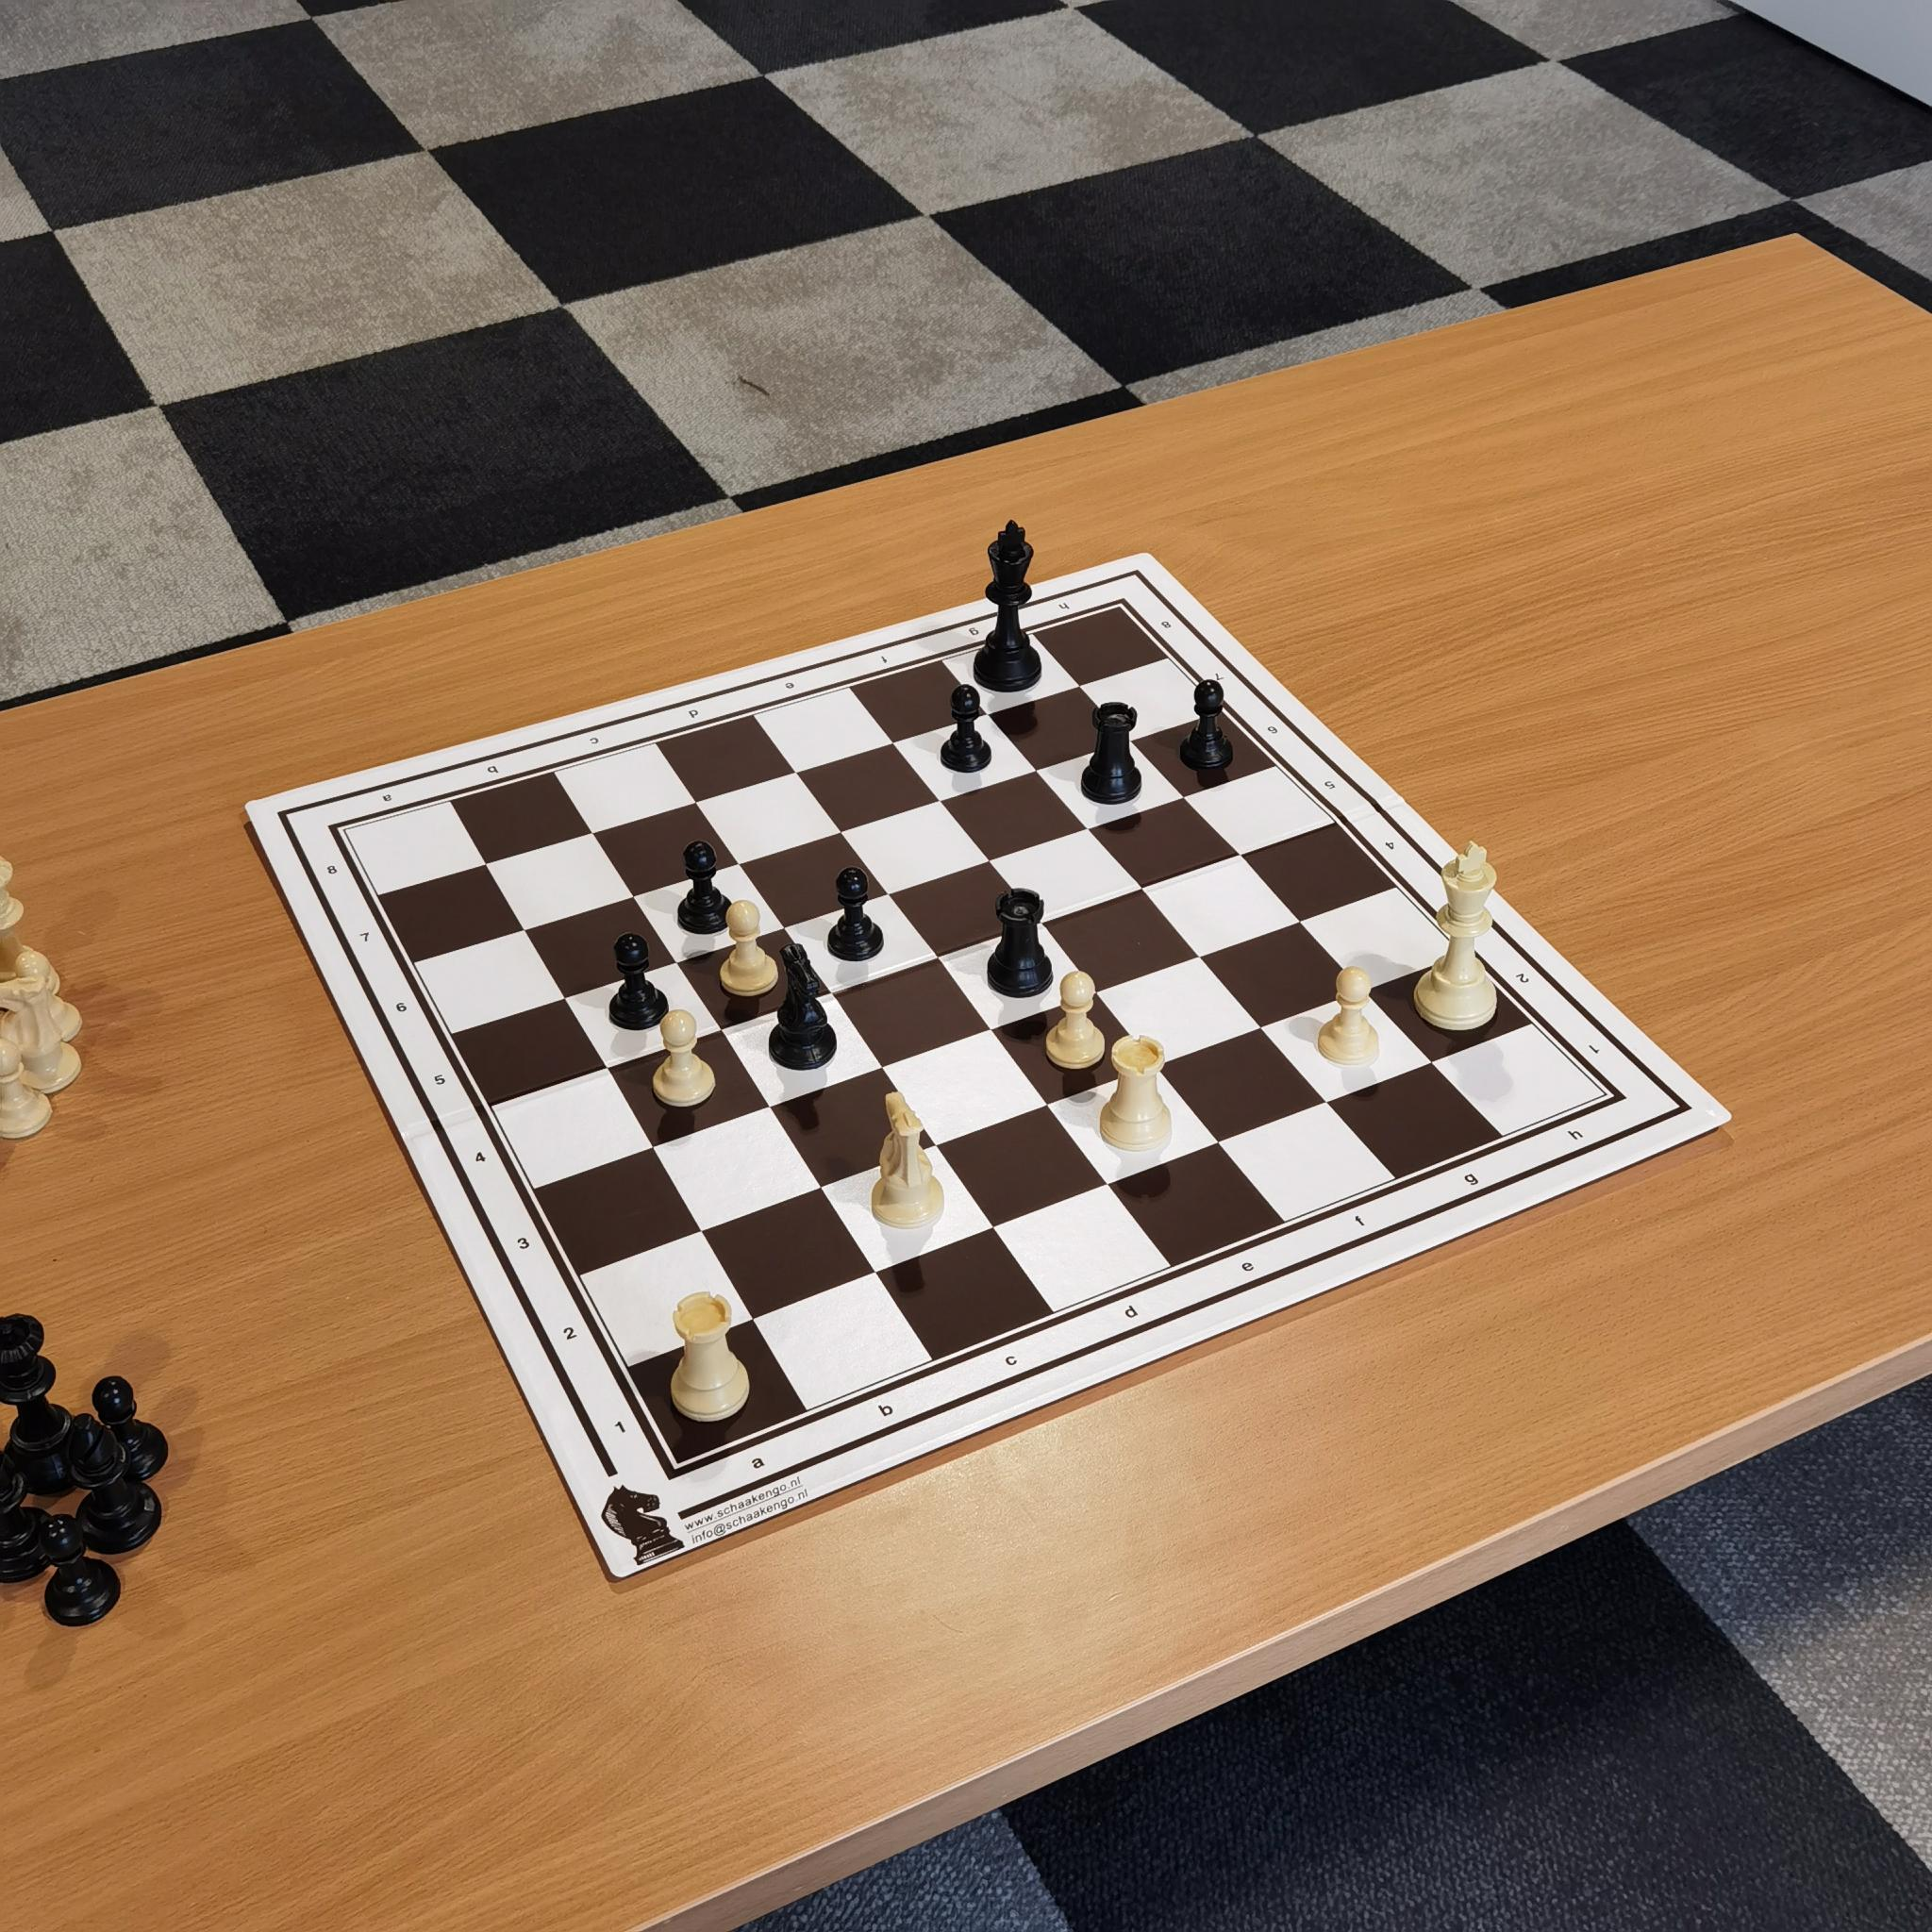corners: (1589, 1076, 1642, 1116), (649, 1454, 692, 1504), (317, 817, 366, 853), (1100, 594, 1141, 630), (0, 1001, 28, 1042)
eight: (315, 846, 350, 888), (1154, 605, 1180, 640)
one: (602, 1398, 644, 1454), (1580, 1031, 1617, 1070)
